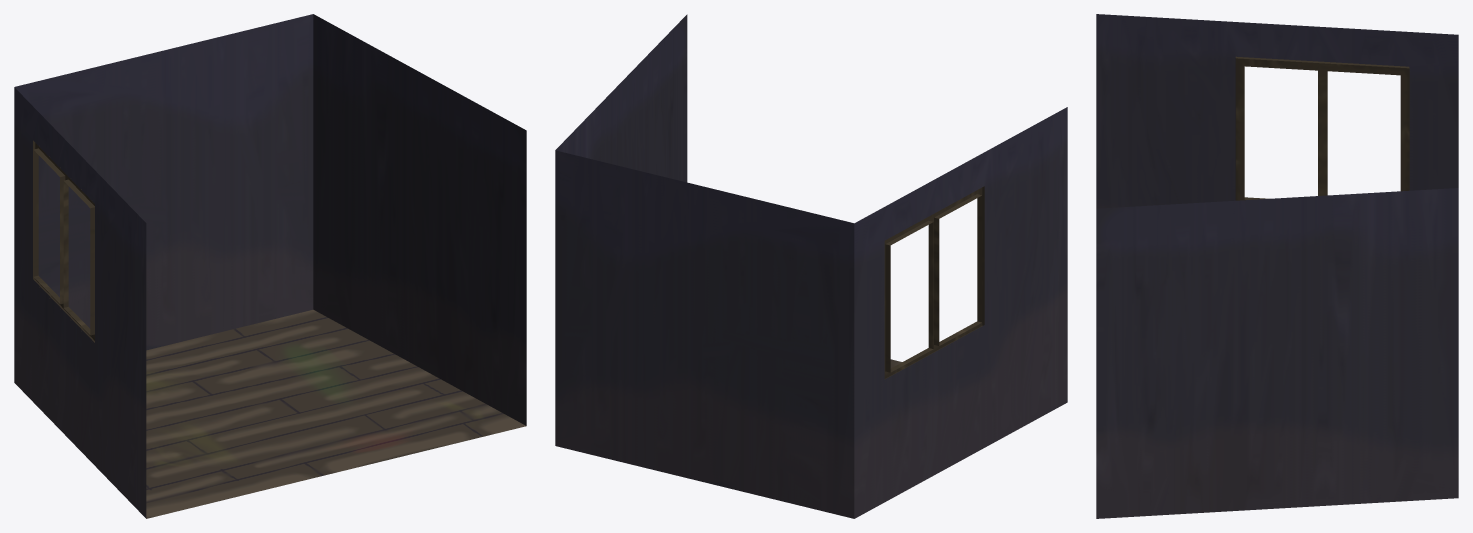
The model's file is Project-X-map.fbx.
The picture shows the model from 3 angles, left to right: view 1: azimuth 30°, elevation 25°; view 2: azimuth 150°, elevation 25°; view 3: azimuth 270°, elevation 25°; orthographic projection. The views are drawn at different scales.
Parts seen in each view (by area): view 1: Room; view 2: Room; view 3: Room.
Boxes of the visible parts, left/top/right/bottom form: Room: left=14, top=14, right=526, bottom=518; Room: left=555, top=14, right=1067, bottom=518; Room: left=1096, top=14, right=1458, bottom=518.
Bounding box in the file's own units: 3.91 × 2.91 × 3.08.
Materials: 1 (1 with a texture image).
